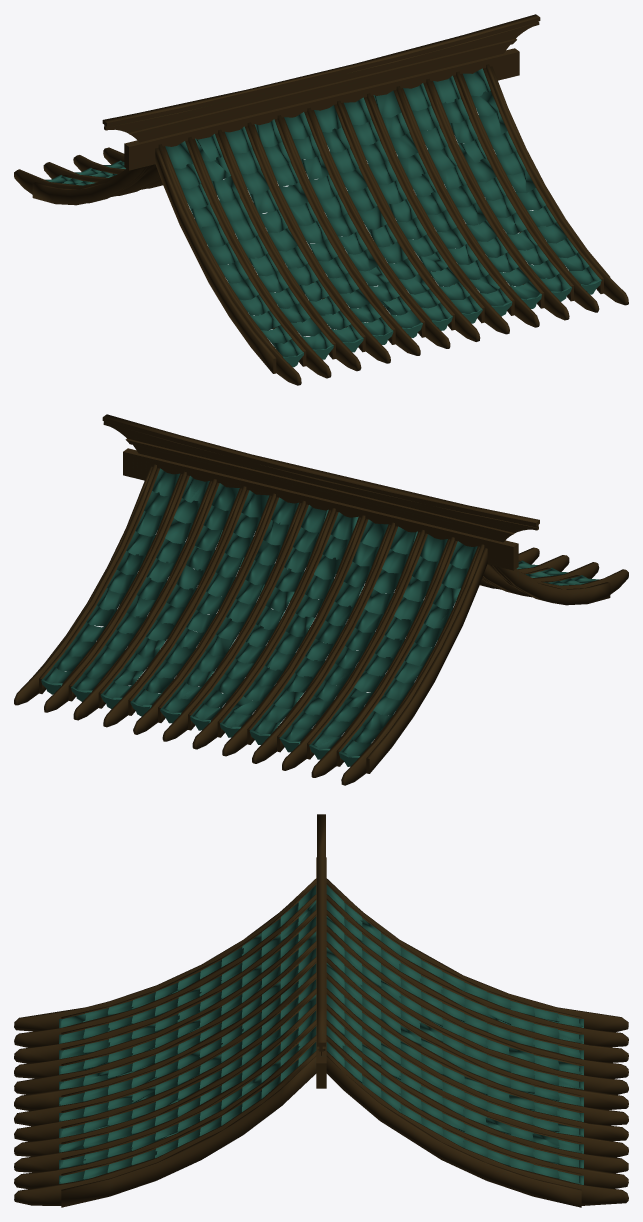
The model's file is roof.glb.
3 renders of one model, top to bottom at view 1: azimuth 30°, elevation 25°; view 2: azimuth 150°, elevation 25°; view 3: azimuth 270°, elevation 25°, orthographic. The views are drawn at different scales.
Parts seen in each view (by area): view 1: Object_4; view 2: Object_4; view 3: Object_4.
Boxes of the visible parts, <box> form: Object_4: <box>14,14,628,385</box>; Object_4: <box>14,414,628,785</box>; Object_4: <box>14,814,628,1207</box>.
Bounding box in the file's own units: 16.71 × 6.51 × 19.01.
Materials: 1 (1 with a texture image).
